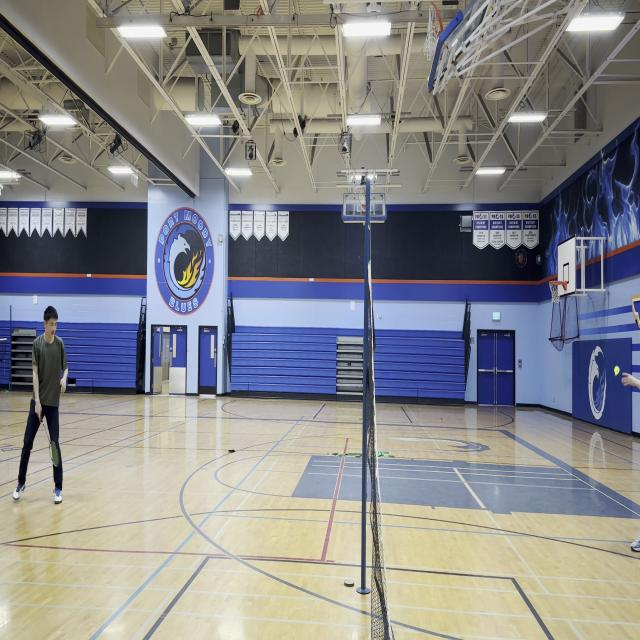shuttlecock: (614, 366, 620, 377)
